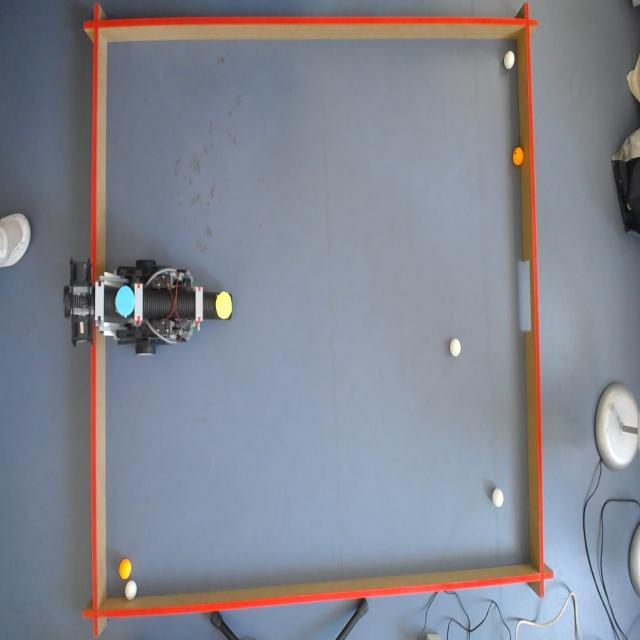orange: (118, 560, 132, 580), (511, 147, 524, 167)
robot: (62, 259, 234, 356)
robot-front: (217, 294, 233, 318)
robot-rear: (114, 284, 136, 317)
white: (124, 581, 138, 602), (449, 336, 462, 357), (504, 49, 516, 70), (492, 487, 504, 507)
